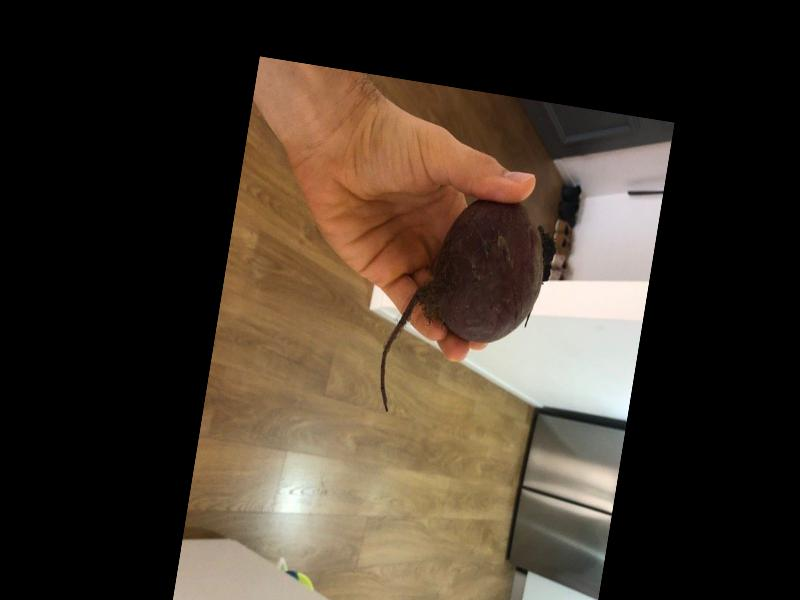Beet: (373, 186, 560, 434)
